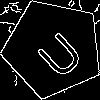U: (28, 23, 87, 82)
